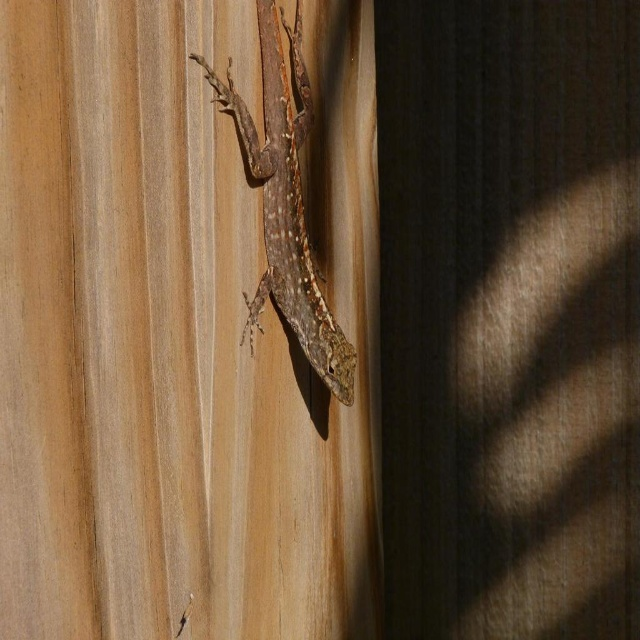Lizard: (193, 22, 360, 466)
